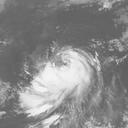cyclone: (37, 47, 96, 104)
